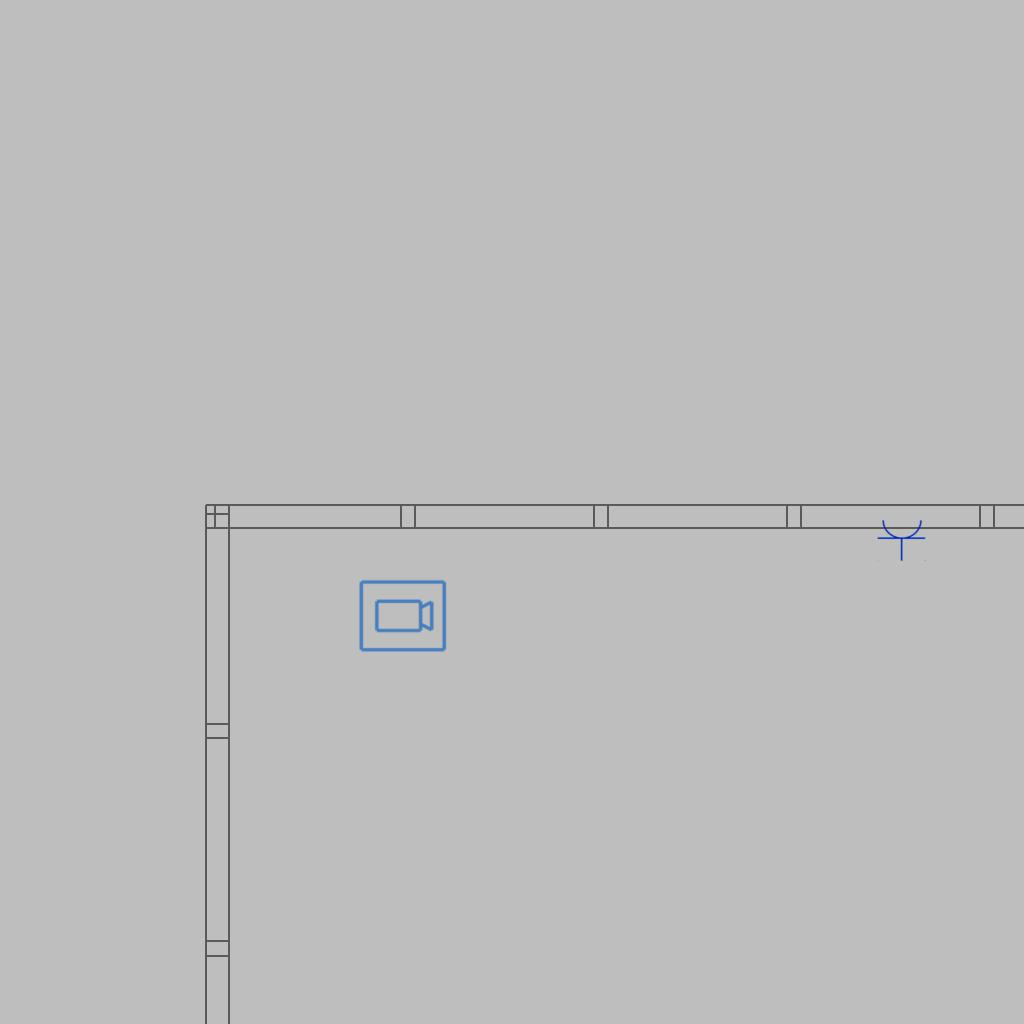KFO_Kamera_mit_Festobjektiv: (357, 578, 448, 655)
Schukosteckdose_einfach: (877, 518, 927, 561)
